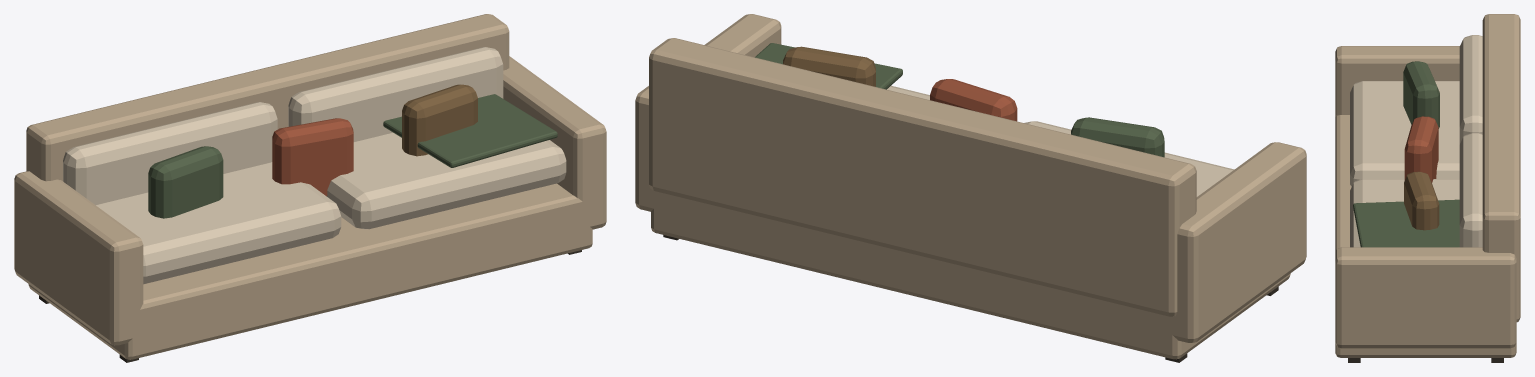
3 renders of one model, left to right at view 1: azimuth 30°, elevation 25°; view 2: azimuth 150°, elevation 25°; view 3: azimuth 270°, elevation 25°, orthographic. The views are drawn at different scales.
Visible parts, largest first — view 1: sofa; view 2: sofa; view 3: sofa.
Part boxes in pixels (x1,y1,x2,y2): sofa: [14, 14, 606, 362]; sofa: [635, 14, 1306, 362]; sofa: [1335, 14, 1520, 362].
Bounding box in the file's own units: 2.42 × 0.79 × 0.88.
